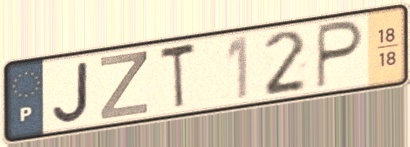1: (222, 32, 250, 105)
2: (260, 28, 311, 99)
J: (50, 59, 91, 125)
P: (313, 18, 366, 92)
T: (157, 39, 199, 114)
Z: (98, 49, 151, 122)
